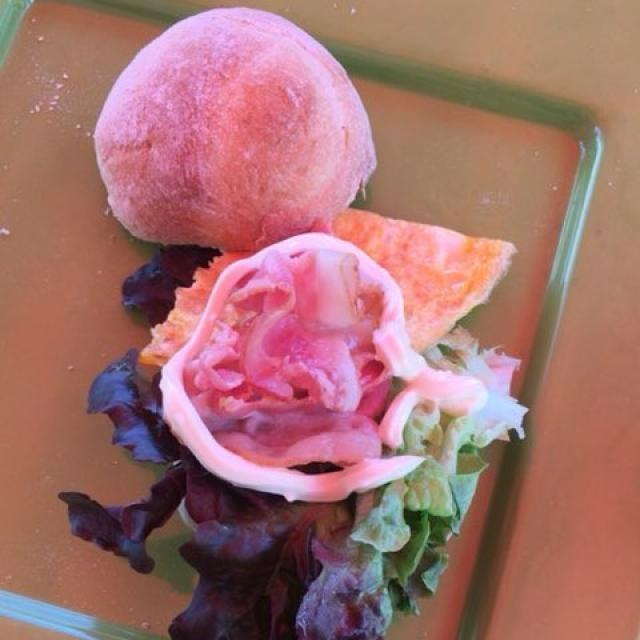bacon: (198, 248, 385, 478)
bread: (81, 5, 393, 253)
egg: (150, 226, 521, 384)
mayonnaise: (156, 227, 487, 507), (217, 250, 420, 467)
salad: (86, 274, 500, 618)
